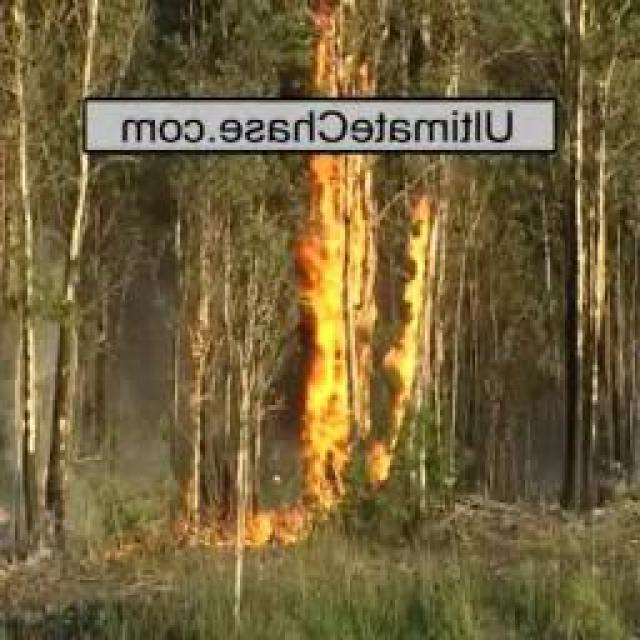Fire: (302, 155, 439, 497), (308, 8, 378, 86), (238, 501, 316, 552)
